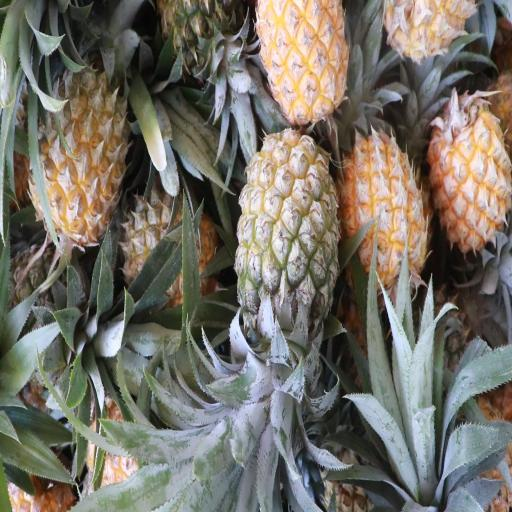------------------------------: (238, 135, 339, 338), (126, 184, 215, 312)
Pineapple - v8 v1: (37, 71, 132, 245), (344, 133, 427, 290), (430, 102, 512, 248), (259, 0, 351, 121)
